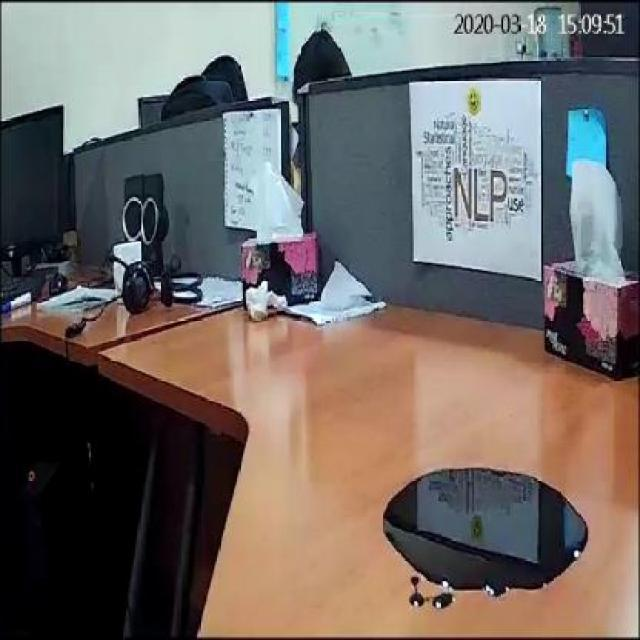spill: (382, 466, 590, 614)
